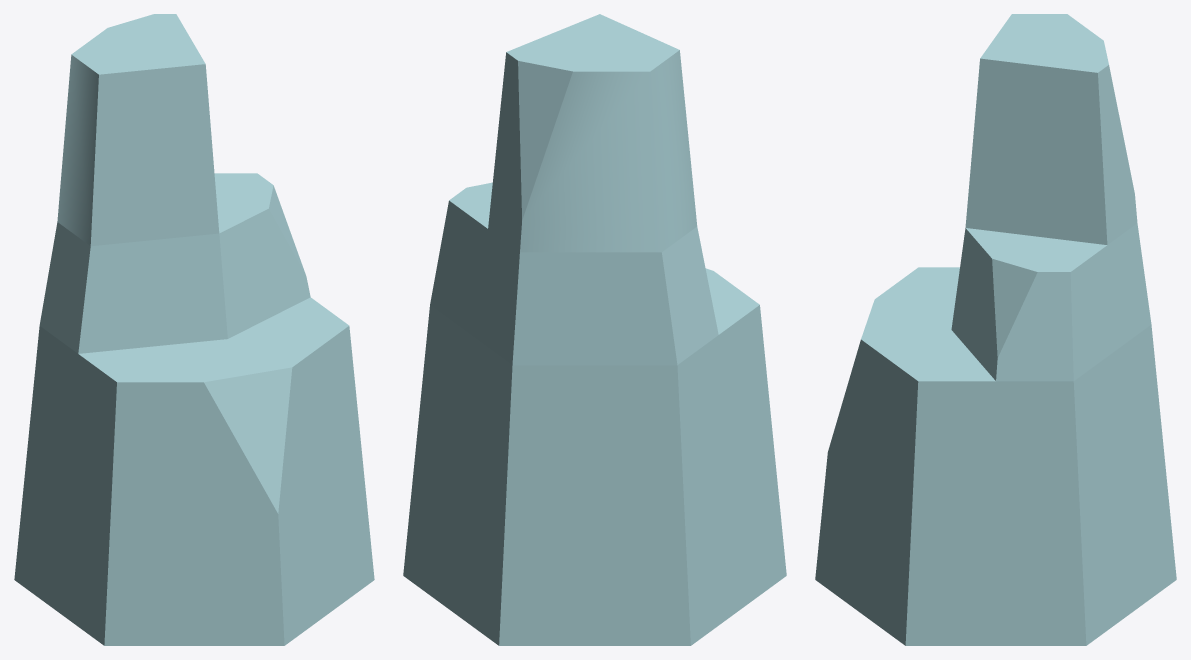
File: stone_tallG.dae
3 renders of one model, left to right at view 1: azimuth 30°, elevation 25°; view 2: azimuth 150°, elevation 25°; view 3: azimuth 270°, elevation 25°, orthographic. The views are drawn at different scales.
Visible parts, largest first — view 1: stone_tallG; view 2: stone_tallG; view 3: stone_tallG.
Boxes of the visible parts, <box> form: stone_tallG: <box>14,14,374,645</box>; stone_tallG: <box>403,14,786,645</box>; stone_tallG: <box>815,14,1176,645</box>.
Size of the model in its own units: 0.4249 by 0.7829 by 0.4907.
